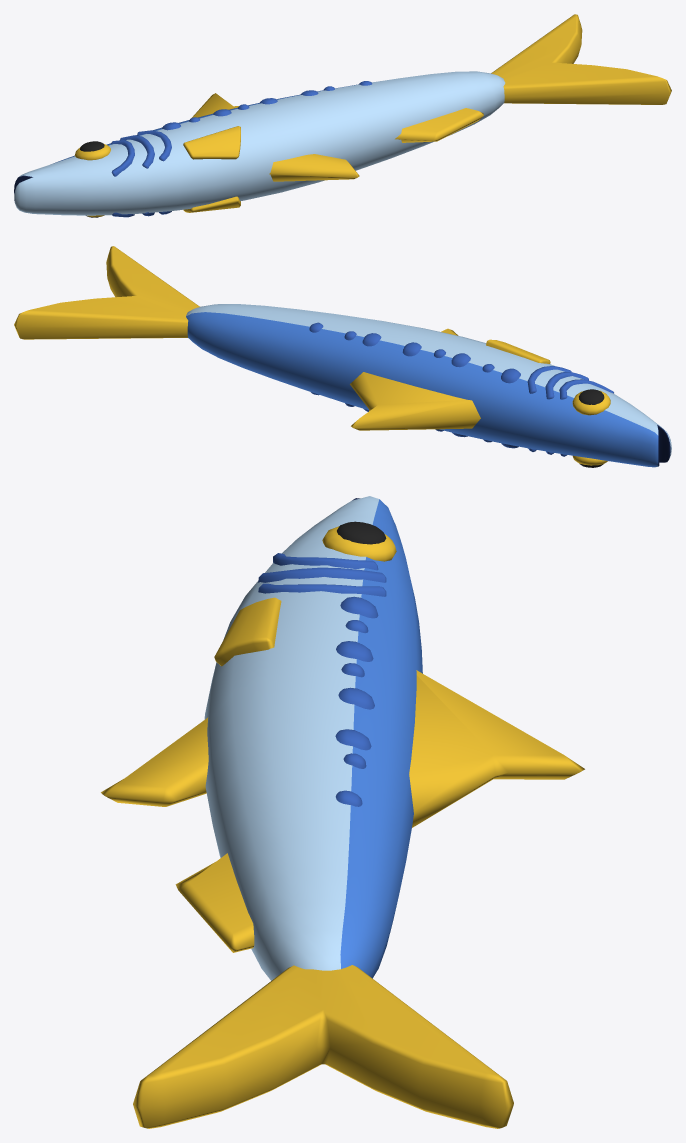
The model's file is Sardine.fbx.
The picture shows the model from 3 angles, top to bottom: view 1: azimuth 30°, elevation 25°; view 2: azimuth 150°, elevation 25°; view 3: azimuth 270°, elevation 25°; orthographic projection. The views are drawn at different scales.
Visible parts, largest first — view 1: Sardine; view 2: Sardine; view 3: Sardine.
Part boxes in pixels (bbox=[...]): Sardine: bbox=[14, 14, 671, 217]; Sardine: bbox=[14, 246, 671, 467]; Sardine: bbox=[101, 496, 584, 1128].
Size of the model in its own units: 32.12 by 4.1 by 11.2.
